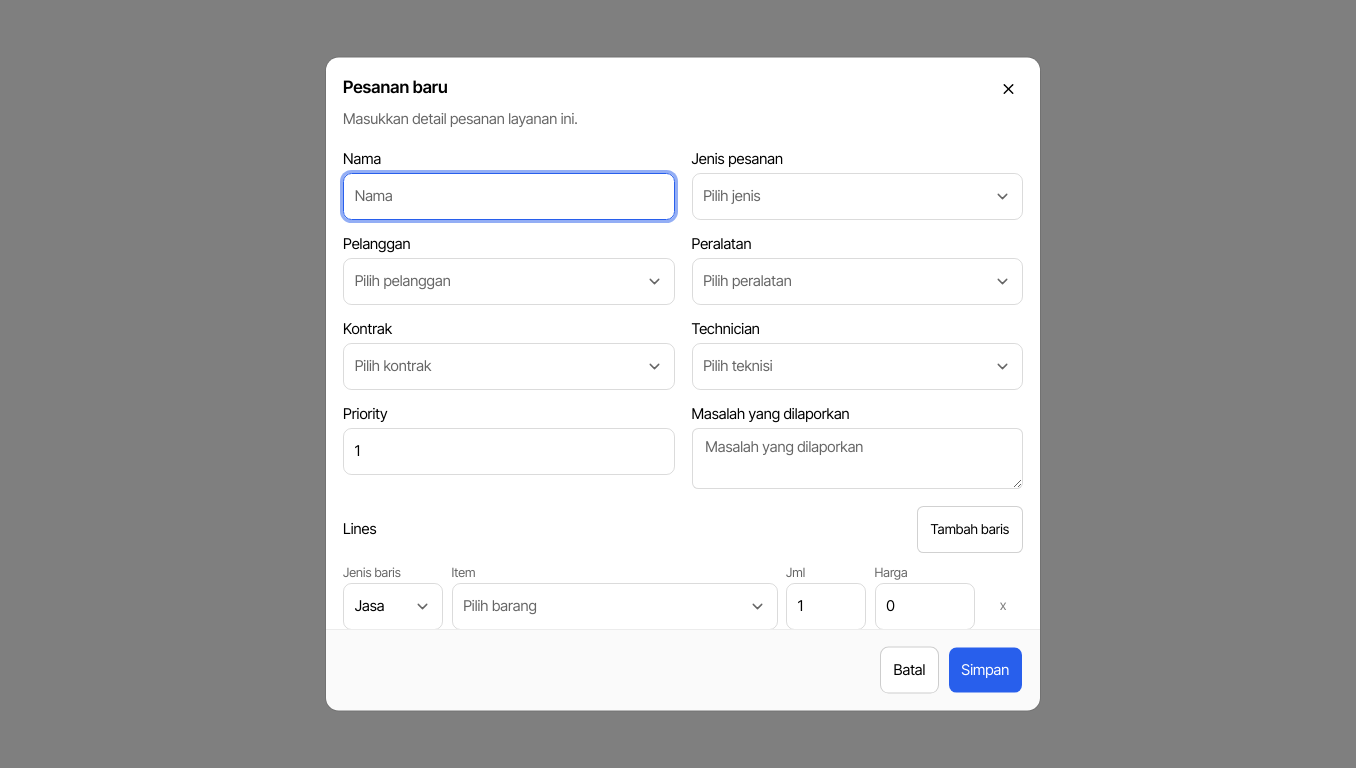
Test case: ServiceOrderFormDialog branches › blocks submit when name and type are missing
Expected: the heading "Pesanan baru" is shown, [343,75,448,100]
Click the button "Simpan".
click(985, 670)  # box [948,647,1023,693]
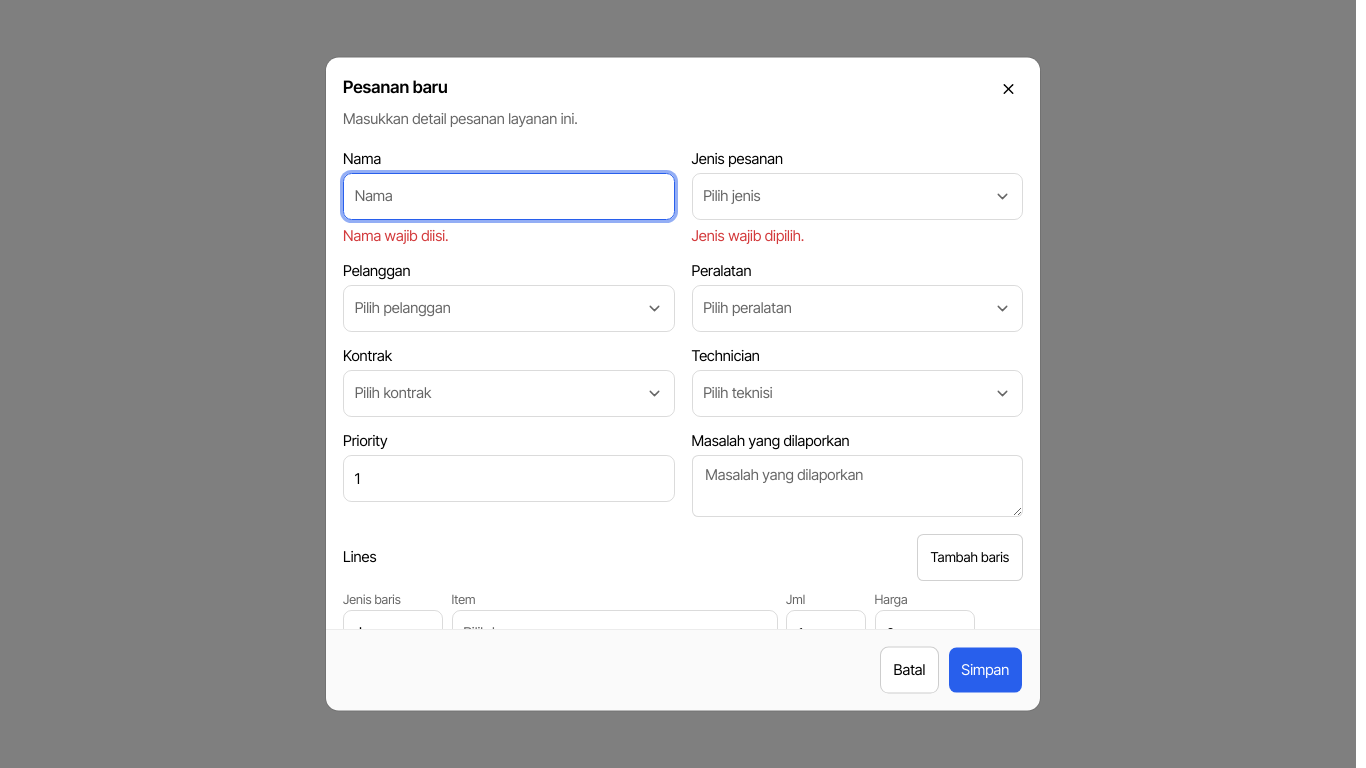
Result: the text "Nama wajib diisi." is shown at [343,226,449,244]
Result: the text "Jenis wajib dipilih." is shown at [692,226,804,244]
